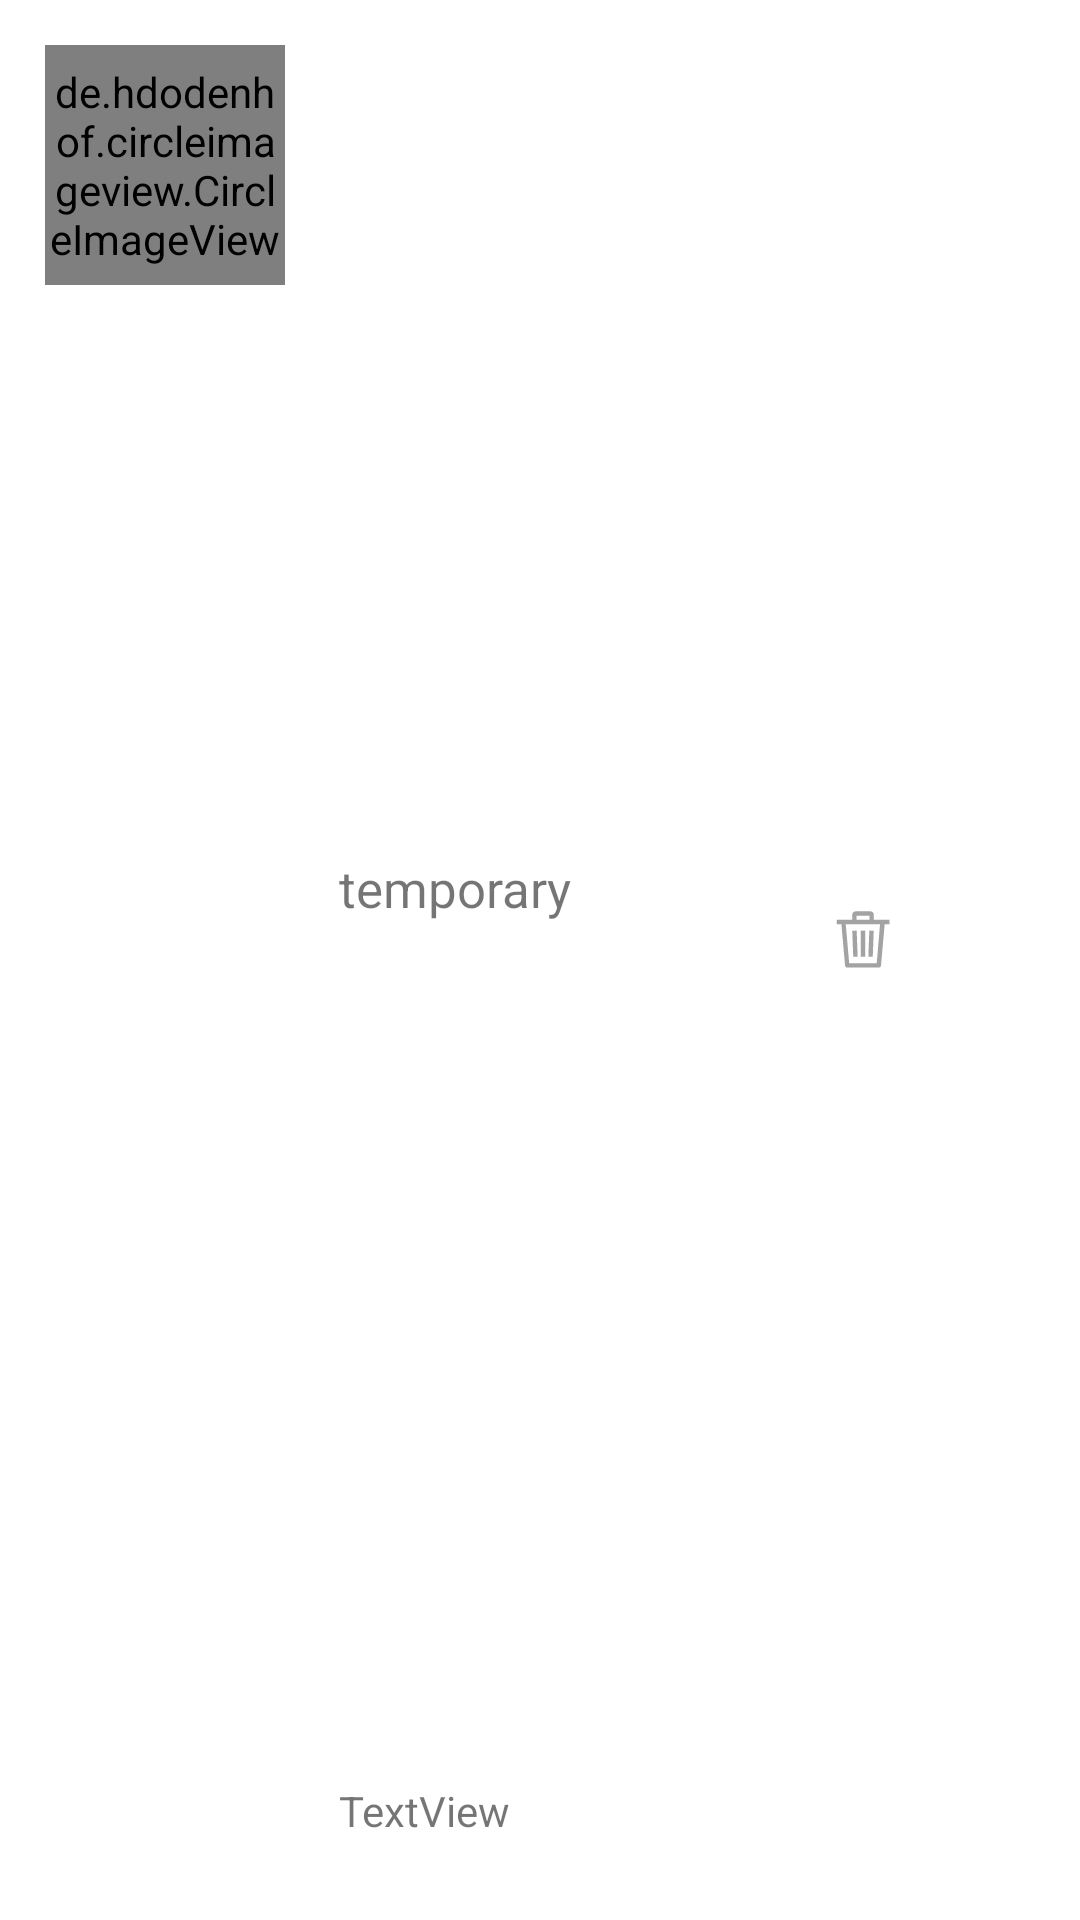

Where icons sit on this 1080*1920 app screen, as [x1,y1,x2,y2]:
delete: [837,911,890,968]
